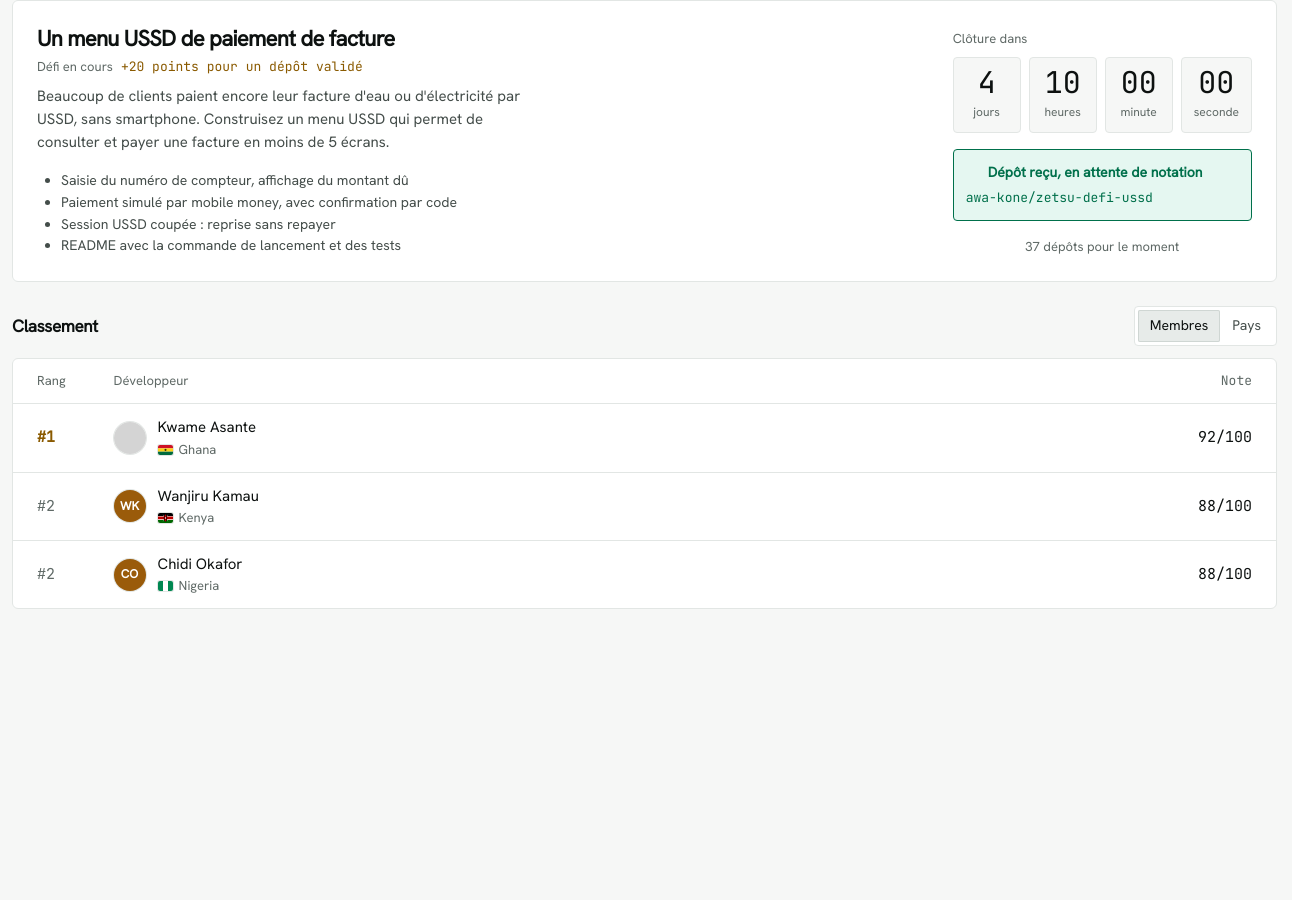
Test: classement par pays (CH-5) › bascule du classement des membres à celui des pays
Expected: the table named "Classement du défi" is shown, [13, 359, 1276, 608]
Step 1. Click the button "Pays" → x=1247, y=326, box [1220, 310, 1273, 342]
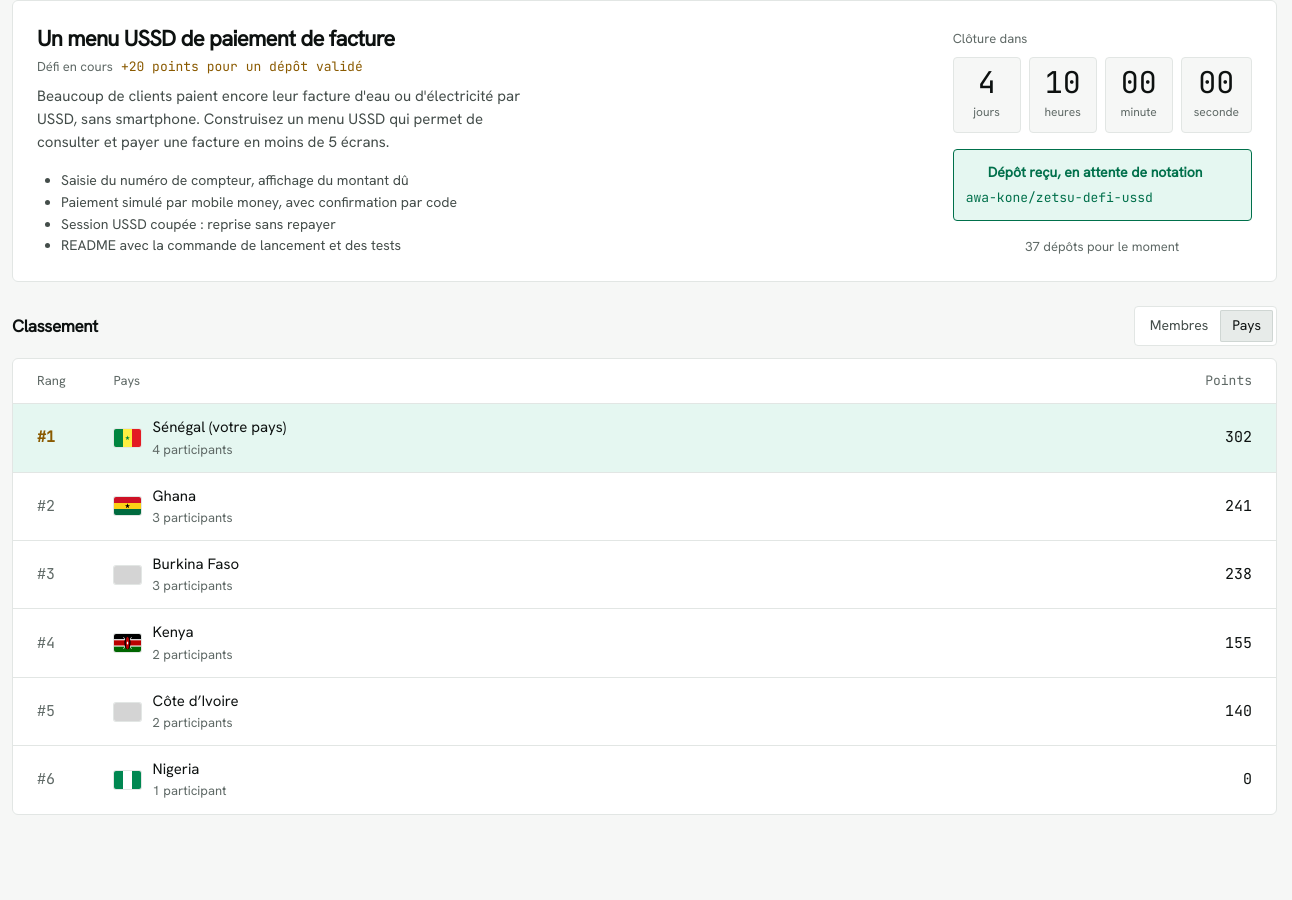
Now the row "#1 Sénégal (votre pays) 4 participants 302" is shown, box [13, 404, 1276, 472]
Now the table named "Classement par pays du défi en cours" shows "Sénégal (votre pays)", box [13, 359, 1276, 814]
